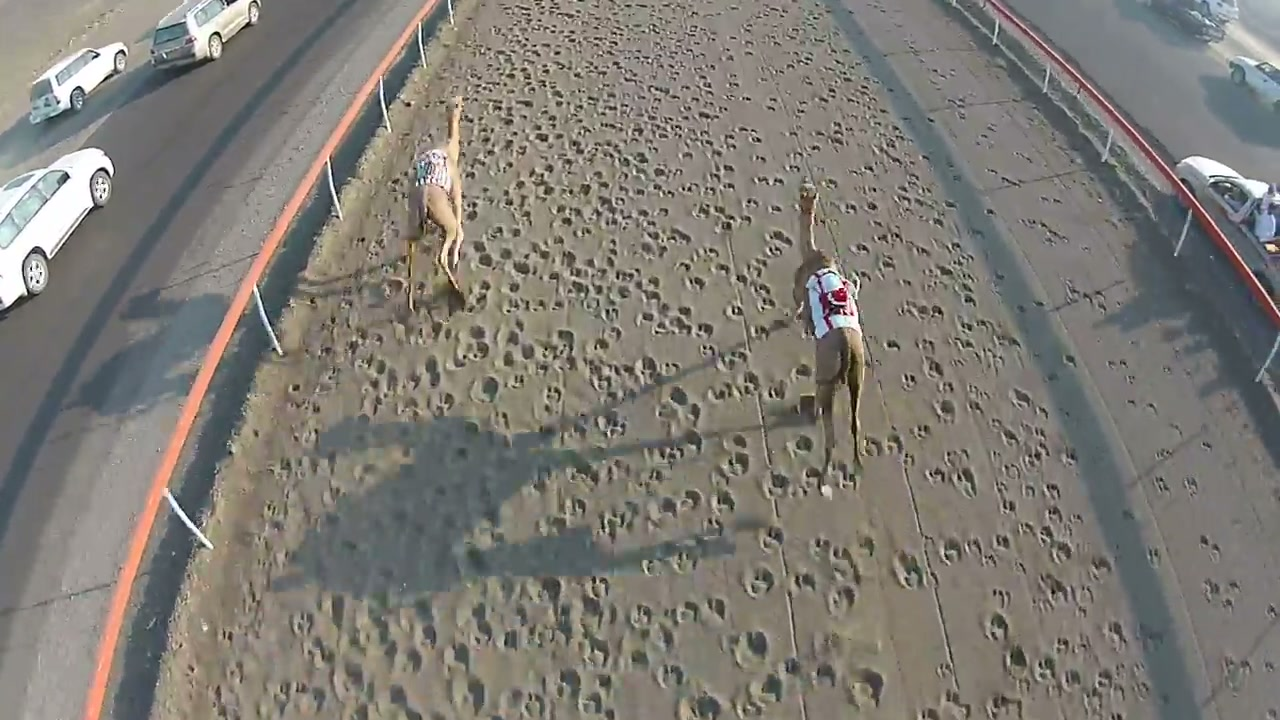animal_footprint: (357, 2, 897, 717), (726, 6, 1142, 695)
